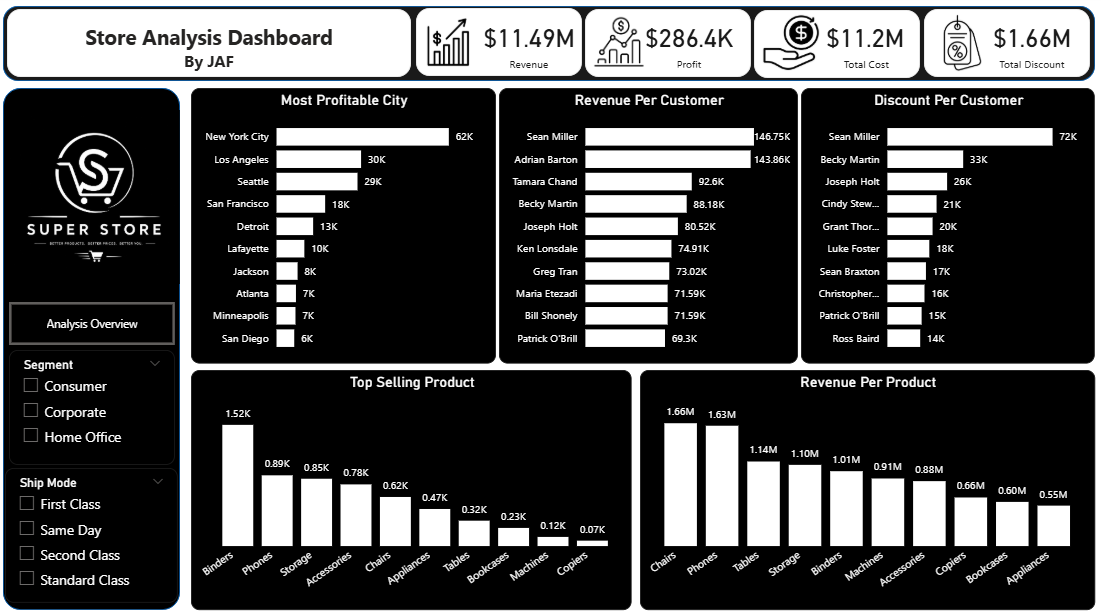

The dashboard page shown, as its layout file describes it:
{"tool":"powerbi","page":{"name":"Analysis Dashboard","canvas":[1280,720],"ordinal":0},"visuals":[{"type":"shape","box":[8.1,107.7,204.9,604.2],"z":0},{"type":"clusteredBarChart","title":"Revenue Per Customer","fields":{"Category":["Store Dataset.Customer Name"],"Y":["Sum(Store Dataset.Revenue)"]},"box":[582.3,107.8,346.1,319.5],"z":1000},{"type":"clusteredBarChart","title":" Discount Per Customer","fields":{"Category":["Store Dataset.Customer Name"],"Y":["Sum(Store Dataset.Discounted Price)"]},"box":[931.8,107.8,340.3,319.5],"z":2000},{"type":"columnChart","title":" Revenue Per  Product ","fields":{"Category":["Store Dataset.Product type"],"Y":["Sum(Store Dataset.Revenue)"]},"box":[745.5,434.1,526.7,277.8],"z":3000},{"type":"columnChart","title":"Top Selling Product ","fields":{"Category":["Store Dataset.Product type"],"Y":["CountNonNull(Store Dataset.Sales)"]},"box":[225.7,434.1,510.5,277.8],"z":4000},{"type":"shape","box":[8.1,12.7,1264.1,86.8],"z":5000},{"type":"clusteredBarChart","title":"Most Profitable City","fields":{"Category":["Store Dataset.City"],"Y":["Sum(Store Dataset.Profit)"]},"box":[225.7,107.8,353.1,319.5],"z":6000},{"type":"shape","box":[1074.2,16.2,192.2,78.7],"z":7000},{"type":"shape","box":[877.4,17.4,192.2,78.7],"z":8000},{"type":"shape","box":[681.8,16.2,192.2,78.7],"z":9000},{"type":"shape","box":[486.2,15,192.2,78.7],"z":10000},{"type":"card","fields":{"Values":["Sum(Store Dataset.Revenue)"]},"box":[555.6,23.2,122.7,67.1],"z":11000},{"type":"card","fields":{"Values":["Sum(Store Dataset.Total Cost)"]},"box":[948,23.2,115.8,67.1],"z":12000},{"type":"card","fields":{"Values":["Sum(Store Dataset.Profit)"]},"box":[745.5,23.2,113.4,66],"z":13000},{"type":"card","fields":{"Values":["Sum(Store Dataset.Discounted Price)"]},"box":[1148.3,24.3,101.9,64.8],"z":14000},{"type":"slicer","fields":{"Values":["Store Dataset.Ship Mode"]},"box":[10.4,547.5,200.3,156.3],"z":15000},{"type":"slicer","fields":{"Values":["Store Dataset.Segment"]},"box":[15,410.9,192.2,133.1],"z":16000},{"type":"actionButton","box":[15,355.4,192.2,49.8],"z":17000},{"type":"shape","box":[12.7,16.2,467.7,78.7],"z":18000},{"type":"textbox","box":[24.3,26.6,444.5,72.9],"z":19000},{"type":"image","box":[480.4,22,84.5,63.7],"z":20000},{"type":"image","box":[688.8,23.1,66.8,64.3],"z":21000},{"type":"image","box":[886.7,22,67.1,66],"z":22000},{"type":"image","box":[1084.6,22,66,67.1],"z":23000},{"type":"image","box":[12.7,105.3,200.3,257],"z":24000}]}

Visuals, with their boxes in screenshot pixels (x1, y1, x2, y2), scaled from the page's 1280x720 canvas onto the 1101x615 screenshot:
shape: rect(7, 92, 183, 608)
"Revenue Per Customer" clusteredBarChart: rect(501, 92, 799, 365)
" Discount Per Customer" clusteredBarChart: rect(801, 92, 1094, 365)
" Revenue Per  Product " columnChart: rect(641, 371, 1094, 608)
"Top Selling Product " columnChart: rect(194, 371, 633, 608)
shape: rect(7, 11, 1094, 85)
"Most Profitable City" clusteredBarChart: rect(194, 92, 498, 365)
shape: rect(924, 14, 1089, 81)
shape: rect(755, 15, 920, 82)
shape: rect(586, 14, 752, 81)
shape: rect(418, 13, 584, 80)
card - Sum(Store Dataset.Revenue): rect(478, 20, 583, 77)
card - Sum(Store Dataset.Total Cost): rect(815, 20, 915, 77)
card - Sum(Store Dataset.Profit): rect(641, 20, 739, 76)
card - Sum(Store Dataset.Discounted Price): rect(988, 21, 1075, 76)
slicer - Store Dataset.Ship Mode: rect(9, 468, 181, 601)
slicer - Store Dataset.Segment: rect(13, 351, 178, 465)
actionButton: rect(13, 304, 178, 346)
shape: rect(11, 14, 413, 81)
textbox: rect(21, 23, 403, 85)
image: rect(413, 19, 486, 73)
image: rect(592, 20, 650, 75)
image: rect(763, 19, 820, 75)
image: rect(933, 19, 990, 76)
image: rect(11, 90, 183, 309)
